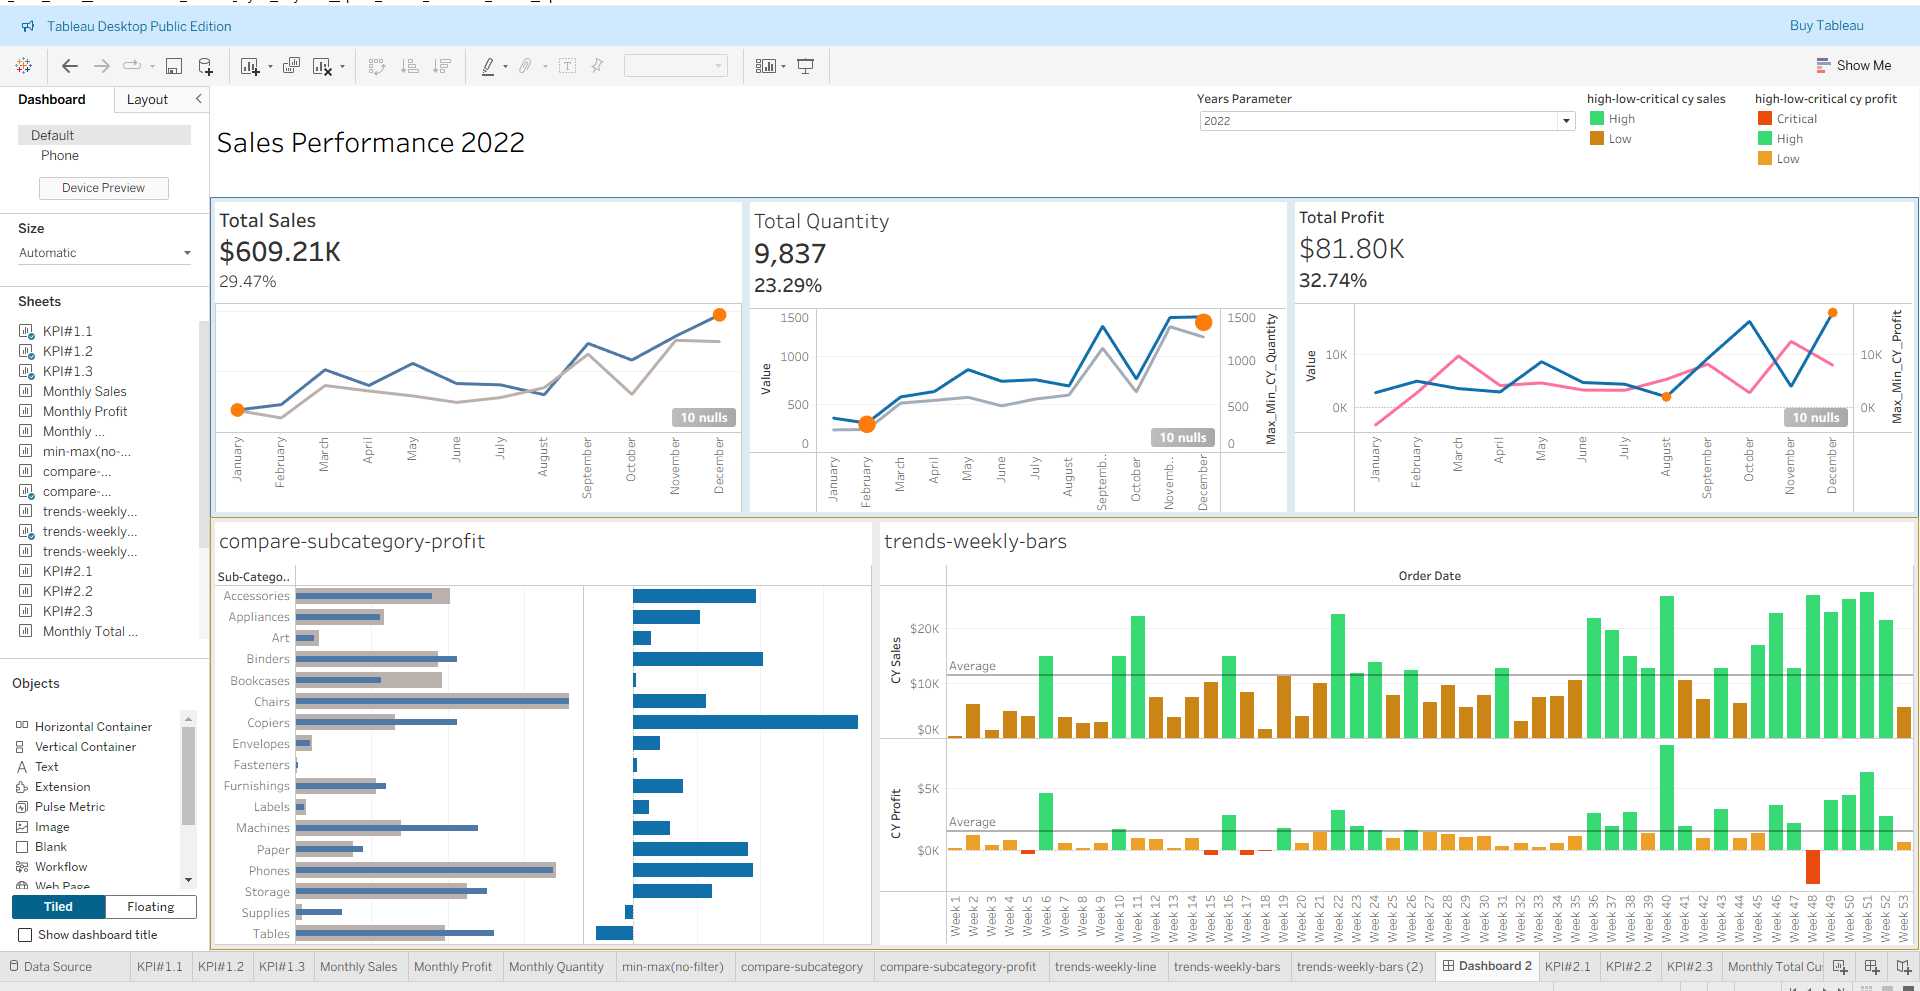

What the dashboard file says about the page in this screenshot:
{"tool":"tableau","page":{"name":"Dashboard 2","canvas":[1000,1000],"units":"permille","ordinal":0},"visuals":[{"type":"text","box":[0,0,575.2,128.2]},{"type":"parameter","param":"[Parameters].[Years Parameter]","box":[575.2,0,228.2,128.2]},{"type":"legend","title":"trends-weekly-bars","param":"[federated.05vuce002pd27j1f07jv50qctfzz].[usr:Calculation_1048419858427904:nk]","box":[803.4,0,98.3,128.2]},{"type":"legend","title":"trends-weekly-bars","param":"[federated.05vuce002pd27j1f07jv50qctfzz].[usr:high-low cy sales (copy)_104841985","box":[901.7,0,98.3,128.2]},{"type":"worksheet","title":"KPI#1.1","mark":"Automatic","rows":["Calculation_0718840636997636"],"cols":["Order Date"],"box":[0.6,129.4,313.1,368.8]},{"type":"worksheet","title":"KPI#1.2","mark":"Line","rows":["Max_Min_PY_Quantity (copy)_1048419949748251"],"cols":["Order Date"],"box":[313.6,129.4,318.9,368.8]},{"type":"worksheet","title":"KPI#1.3","mark":"Automatic","rows":["Max_Min_PY_sales  (copy)_1048419949449242"],"cols":["Order Date"],"box":[632.5,129.4,366.9,368.8]},{"type":"worksheet","title":"compare-subcategory-profit","mark":"Bar","rows":["Sub-Category"],"cols":["CY Sales (copy)_1256776635248646","Calculation_1256776635076613","CY Sales (copy) (copy)_1256776638451722"],"box":[0.6,500.5,389.1,498.3]},{"type":"worksheet","title":"trends-weekly-bars","mark":"Bar","rows":["Calculation_1256776635076613","CY Sales (copy) (copy)_1256776638451722"],"cols":["Order Date"],"box":[389.7,500.5,609.5,498.3]}]}

Visuals, with their boxes on the dashboard's canvas, which has no fixed pixel size, in thousandths of its width and height (x1, y1, x2, y2). These are canvas units, not pixel positions in the 1920x991 screenshot, which may show the page scaled, cropped or inside an application window:
text: 0 0 575 128
parameter: 575 0 803 128
"trends-weekly-bars" legend: 803 0 902 128
"trends-weekly-bars" legend: 902 0 1000 128
"KPI#1.1" worksheet: 1 129 314 498
"KPI#1.2" worksheet (Line marks): 314 129 632 498
"KPI#1.3" worksheet: 632 129 999 498
"compare-subcategory-profit" worksheet (Bar marks): 1 500 390 999
"trends-weekly-bars" worksheet (Bar marks): 390 500 999 999
